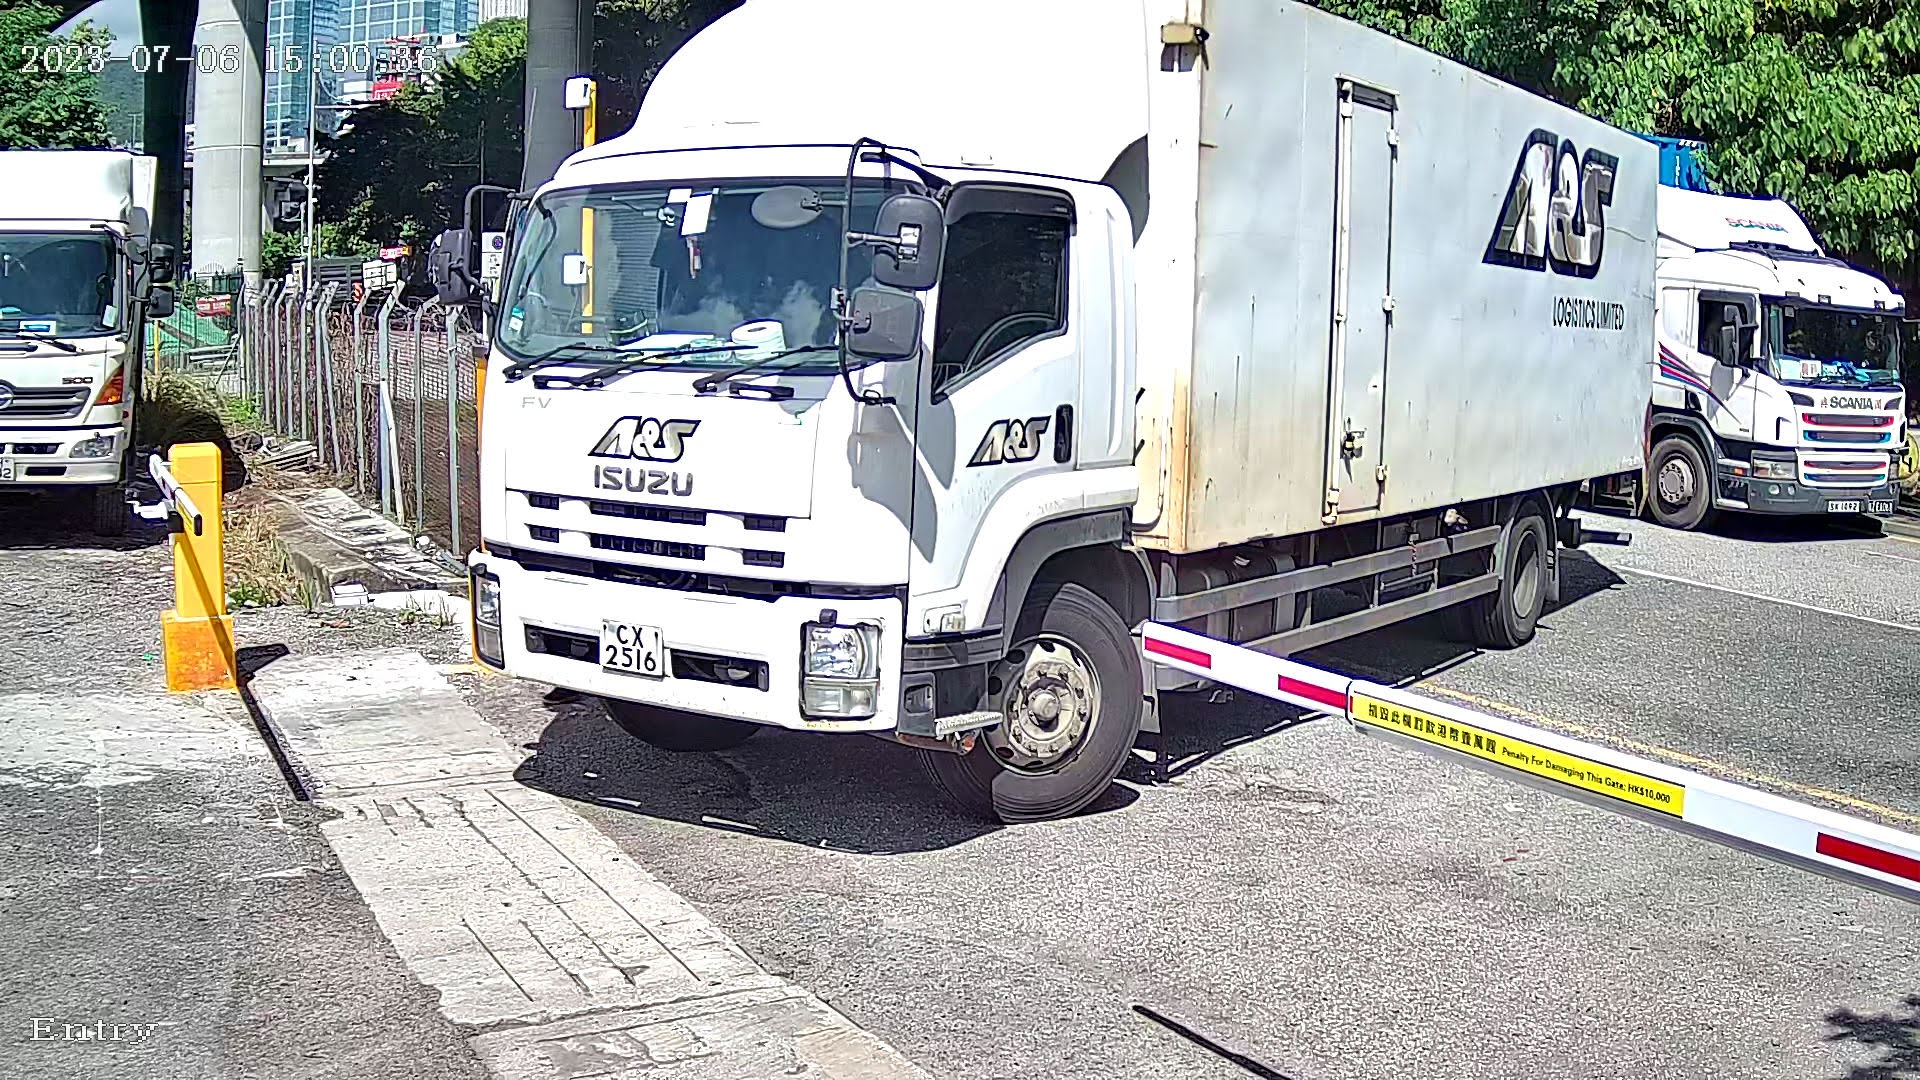truck: (429, 1, 1692, 837)
